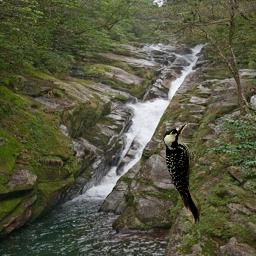Woodpecker: (158, 120, 209, 232)
